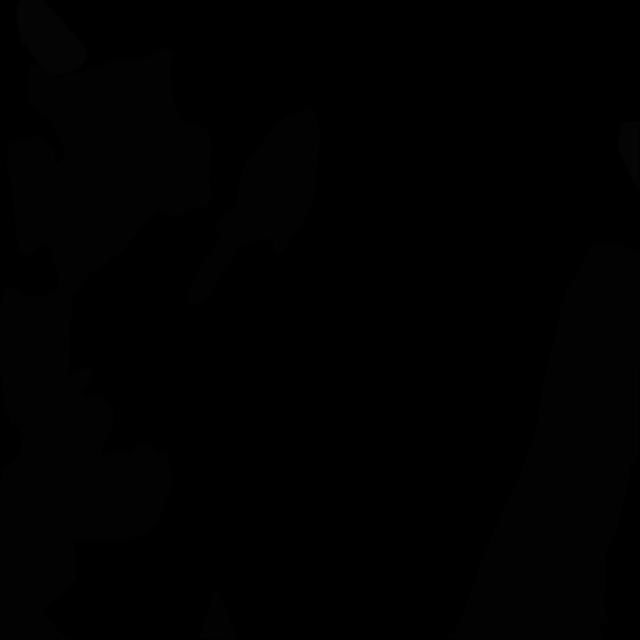cardboard: (442, 242, 640, 640), (6, 48, 212, 296), (0, 425, 173, 640), (187, 108, 320, 306), (0, 287, 72, 427), (18, 365, 113, 463), (198, 587, 241, 640)
soft_plastic: (16, 0, 88, 74), (618, 121, 640, 189)
